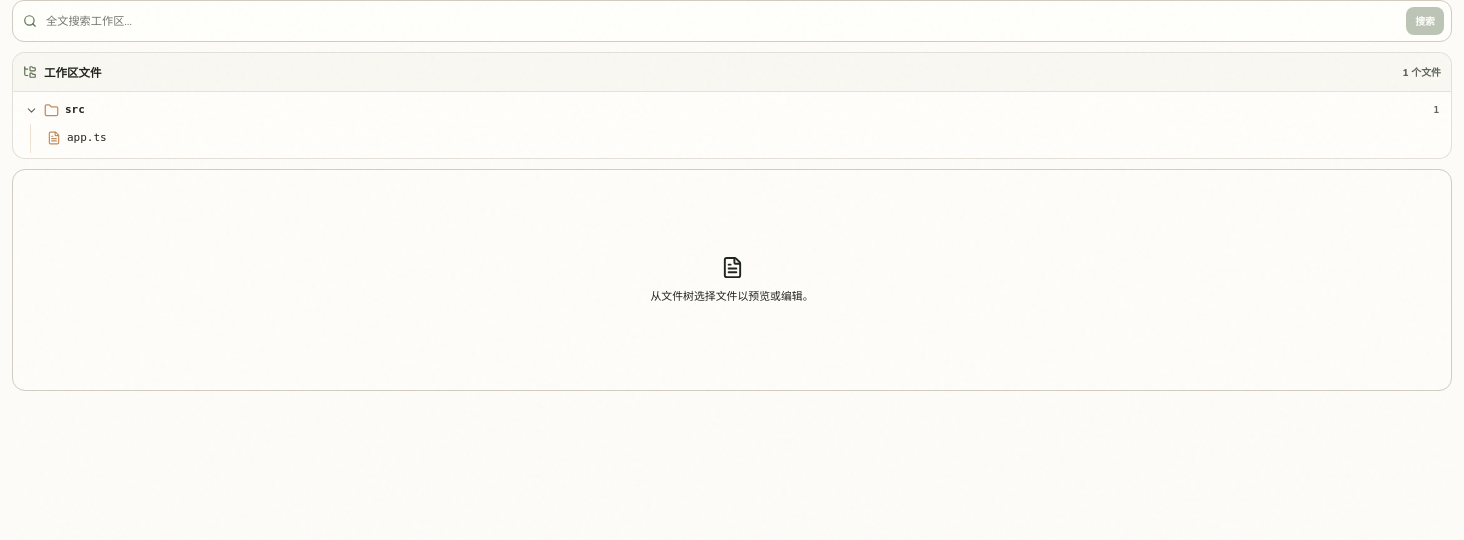
Test: FileWorkbench › opens a text file in a tab and requires diff review before save
This screenshot has width=1464, height=540.
Click the button "app.ts". click: (87, 138)
box: [40,125,1446,152]
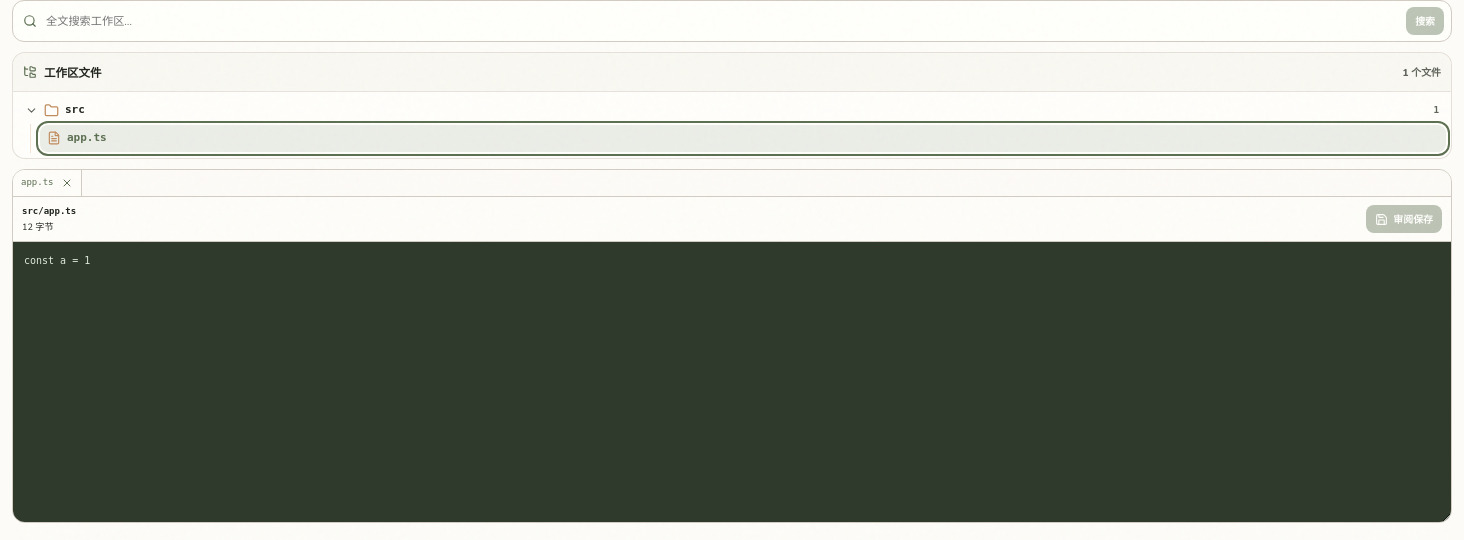
Replace the text in the text box with class "file-editor" with "const a = 2". click: (732, 382)
box: [13,242,1451,522]
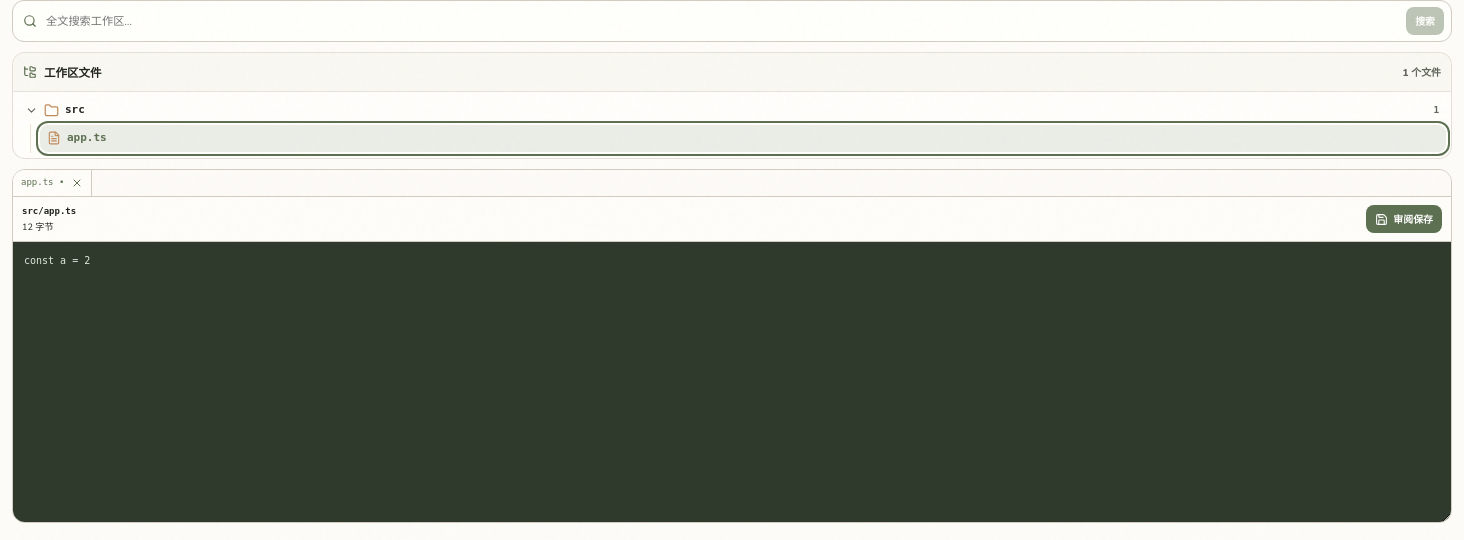
Click the button "审阅保存". click: (1404, 219)
box: [1366,205,1442,233]
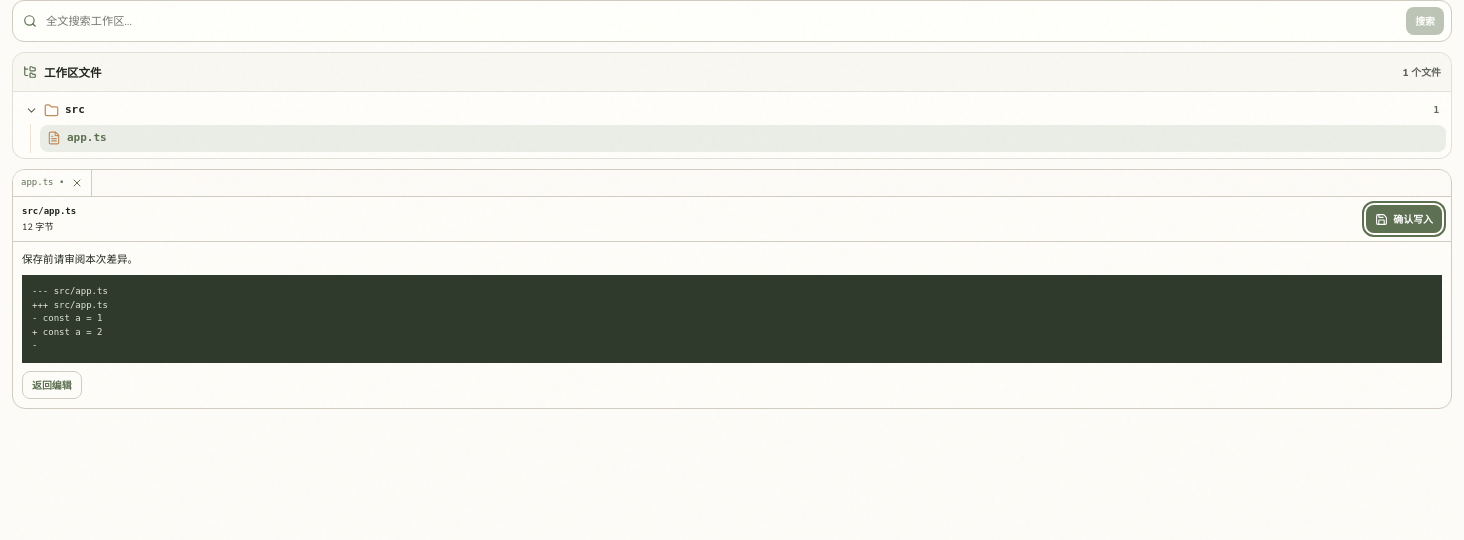
Now the text "保存前请审阅本次差异。" is shown, box [22,252,138,267]
Now the text "--- src/app.ts +++ src/app.ts - const a = 1 + const a = 2 -" is shown, box [22,275,1442,363]
